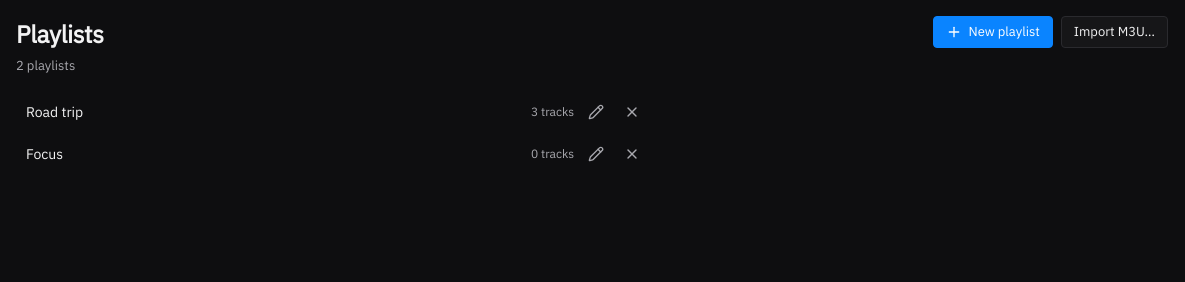
Test: PlaylistsView › create › shows the server's error and stays on the page when creation fails
Click the button "New playlist" at (993, 32), box [934, 16, 1053, 48]
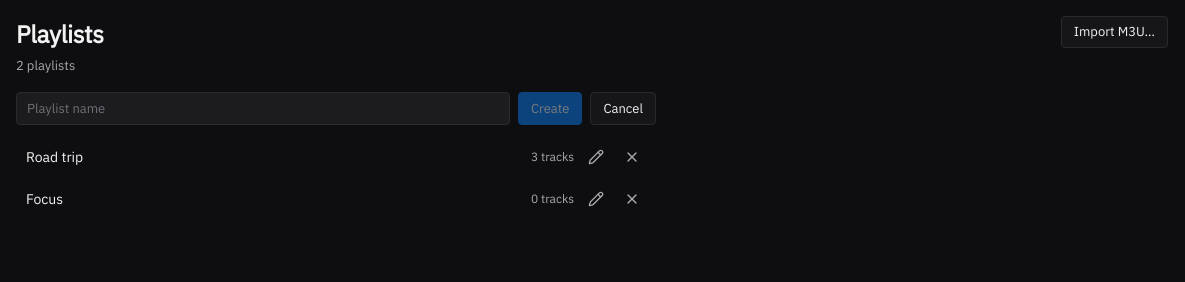
Type "Dup" into the field named "Playlist name" at (263, 108), box [16, 92, 510, 125]
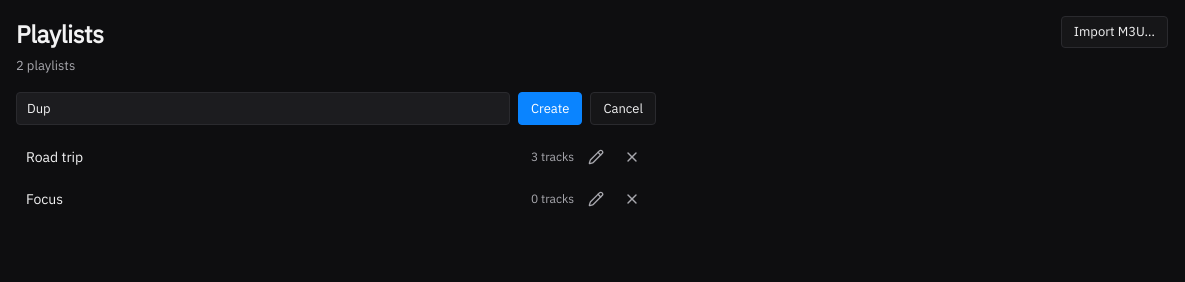
Click the button "Create" at (550, 108), box [518, 92, 582, 125]
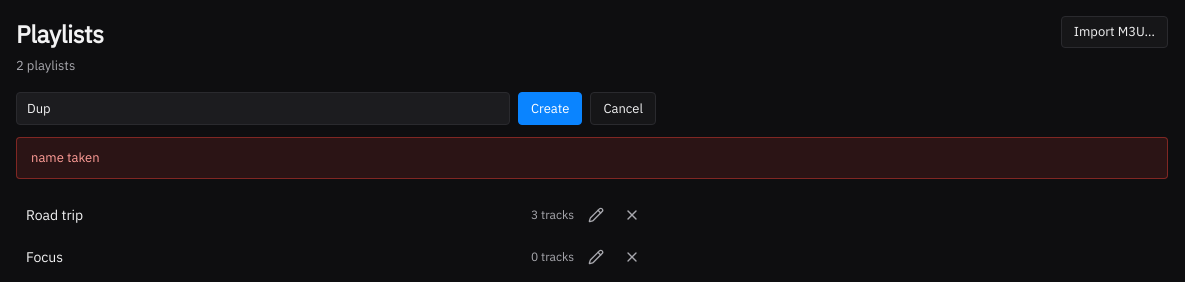
expect the message "name taken" is shown: met, box [16, 137, 1168, 178]
